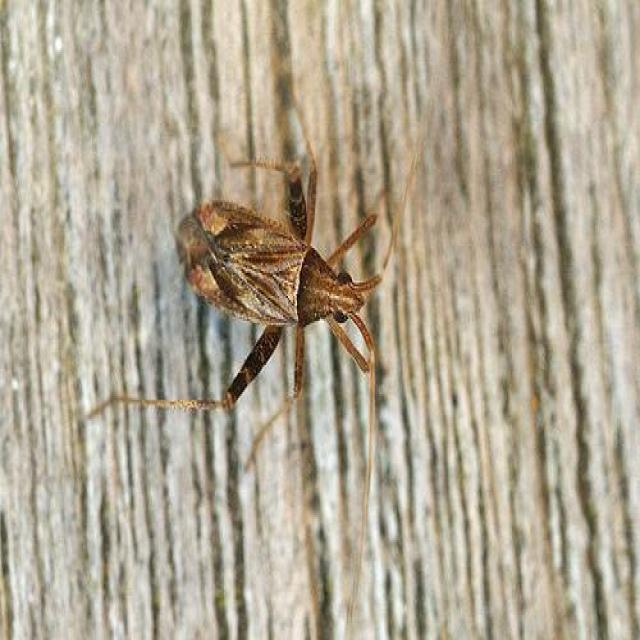Miridae-Adult-: (111, 77, 446, 448)
